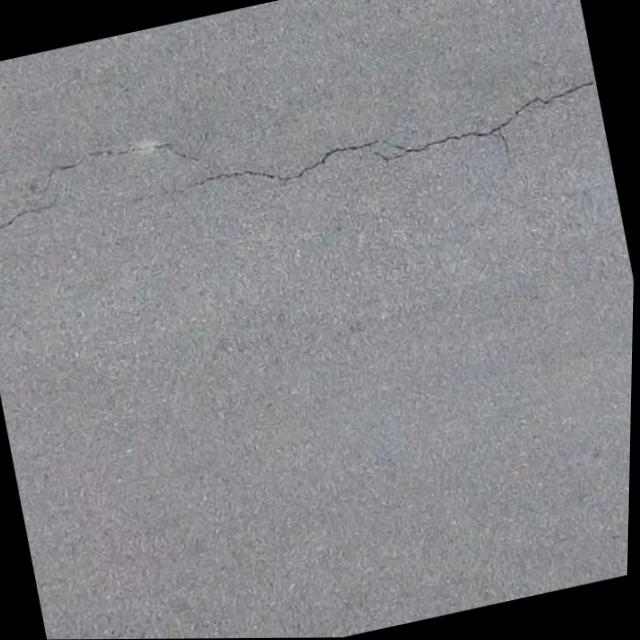Crack: (298, 63, 602, 204), (140, 139, 338, 226)
